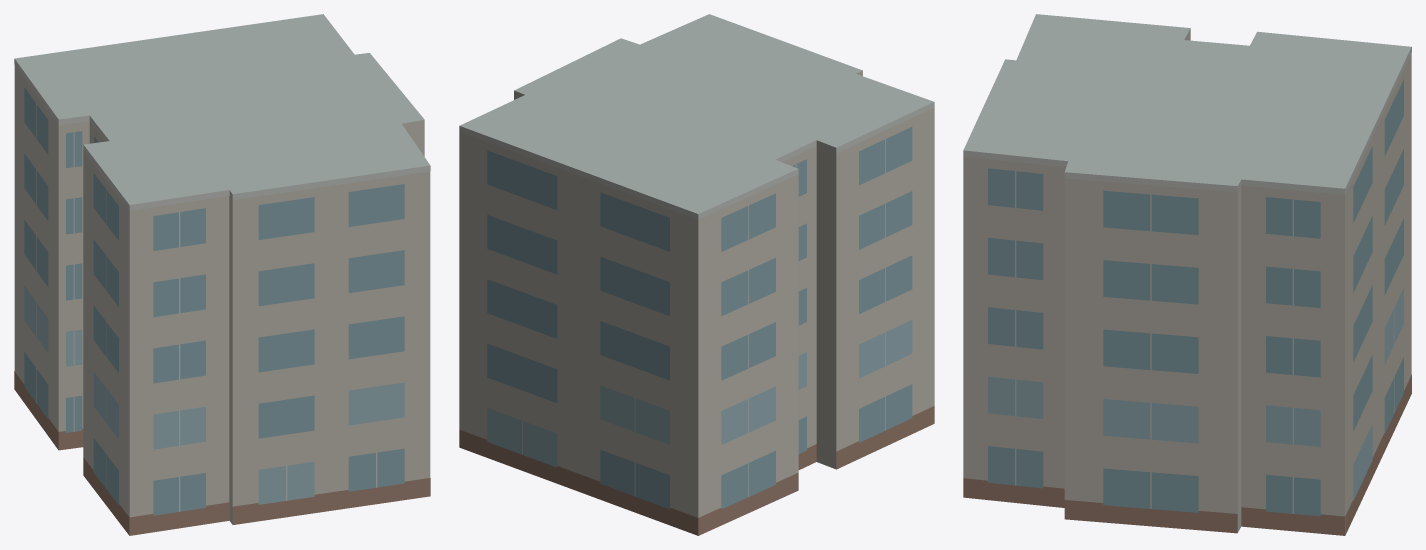
The model's file is survey-upis-32926849.glb.
The picture shows the model from 3 angles, left to right: view 1: azimuth 30°, elevation 25°; view 2: azimuth 150°, elevation 25°; view 3: azimuth 270°, elevation 25°; orthographic projection. The views are drawn at different scales.
Parts seen in each view (by area): view 1: survey-upis-32926849.tmp; view 2: survey-upis-32926849.tmp; view 3: survey-upis-32926849.tmp.
Part boxes in pixels (x1,y1,x2,y2): survey-upis-32926849.tmp: [14, 14, 430, 535]; survey-upis-32926849.tmp: [459, 14, 934, 535]; survey-upis-32926849.tmp: [963, 14, 1411, 535].
Bounding box in the file's own units: 14.91 × 13.8 × 16.17.
